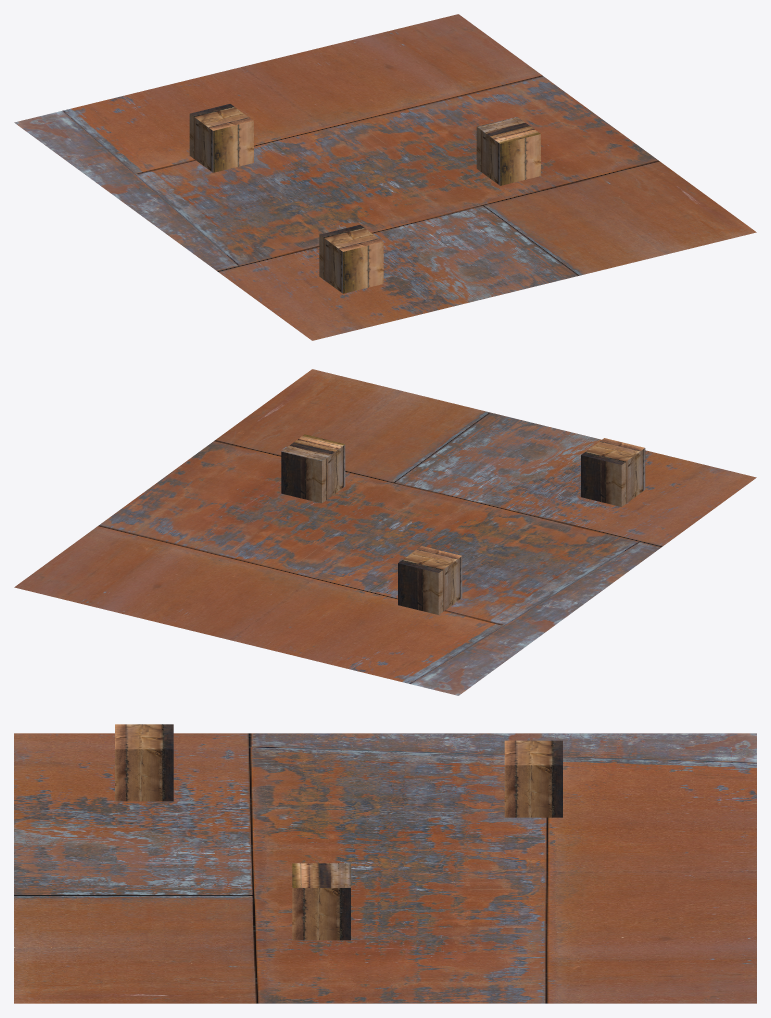
3 views of the same model, one above another, from view 1: azimuth 30°, elevation 25°; view 2: azimuth 150°, elevation 25°; view 3: azimuth 270°, elevation 25° (orthographic). The views are drawn at different scales.
Visible parts, largest first — view 1: Plane, Cube.002_Cube.003, Cube.003_Cube.004, Cube.001_Cube.002; view 2: Plane, Cube.001_Cube.002, Cube.002_Cube.003, Cube.003_Cube.004; view 3: Plane, Cube.002_Cube.003, Cube.003_Cube.004, Cube.001_Cube.002.
Part boxes in pixels (bbox=[...]): Plane: bbox=[14, 14, 756, 340]; Cube.002_Cube.003: bbox=[476, 117, 540, 185]; Cube.003_Cube.004: bbox=[319, 225, 383, 293]; Cube.001_Cube.002: bbox=[189, 104, 253, 172]; Plane: bbox=[14, 369, 756, 695]; Cube.001_Cube.002: bbox=[398, 546, 462, 614]; Cube.002_Cube.003: bbox=[281, 434, 345, 503]; Cube.003_Cube.004: bbox=[581, 438, 645, 506]; Plane: bbox=[14, 733, 756, 1003]; Cube.002_Cube.003: bbox=[292, 863, 350, 940]; Cube.003_Cube.004: bbox=[115, 724, 173, 801]; Cube.001_Cube.002: bbox=[504, 740, 562, 817].
Size of the model in its own units: 21.82 by 2 by 25.36.
